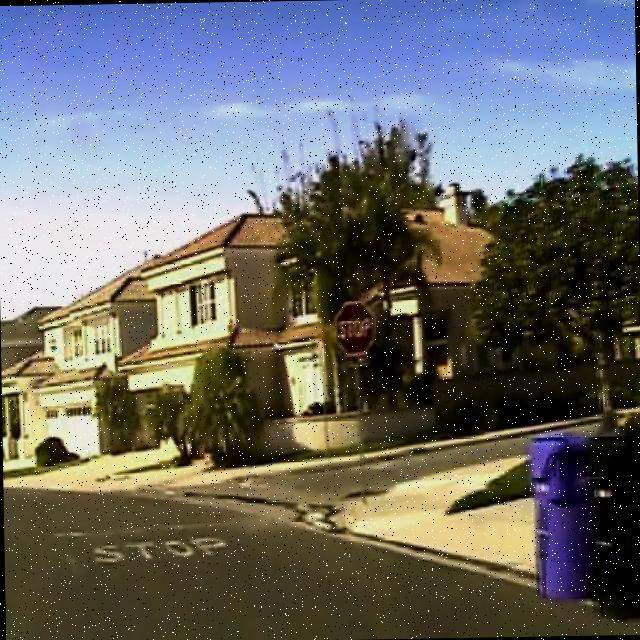Stop: (333, 298, 376, 357)
